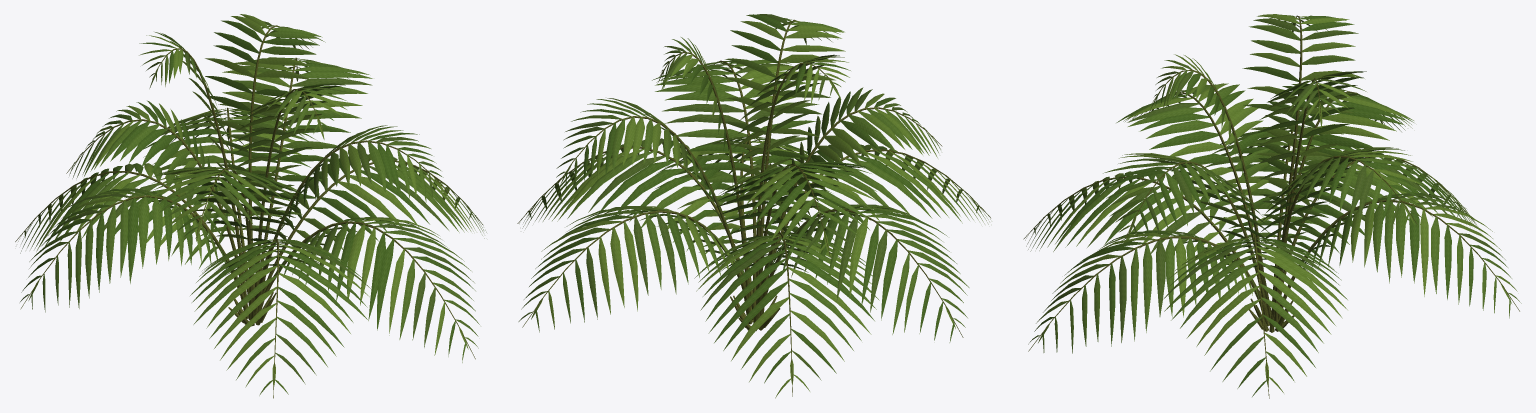
The model's file is ark_style_fern.glb.
3 views of the same model, side by side, from view 1: azimuth 30°, elevation 25°; view 2: azimuth 150°, elevation 25°; view 3: azimuth 270°, elevation 25° (orthographic). The views are drawn at different scales.
Parts seen in each view (by area): view 1: Fern; view 2: Fern; view 3: Fern.
Part boxes in pixels (left/top/right/bottom): Fern: left=15, top=14, right=486, bottom=398; Fern: left=517, top=14, right=990, bottom=398; Fern: left=1023, top=14, right=1521, bottom=398.
Bounding box in the file's own units: 2.24 × 1.34 × 2.17.
1 material, 1 textured.
